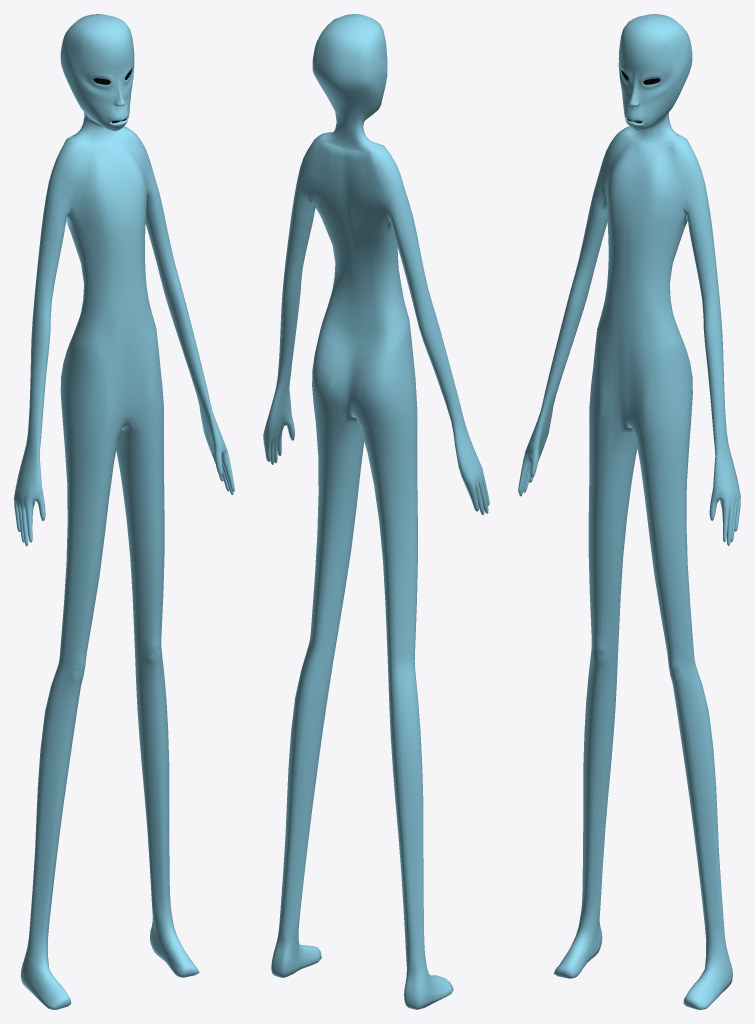
Rendered from Alien.FBX.
The picture shows the model from 3 angles, left to right: view 1: azimuth 30°, elevation 25°; view 2: azimuth 150°, elevation 25°; view 3: azimuth 330°, elevation 25°; orthographic projection.
Visible parts, largest first — view 1: Body; view 2: Body; view 3: Body.
Boxes of the visible parts, left/top/right/bottom form: Body: left=14, top=14, right=234, bottom=1009; Body: left=263, top=14, right=489, bottom=1009; Body: left=518, top=14, right=740, bottom=1009.
Bounding box in the file's own units: 160 × 698 × 69.32.
